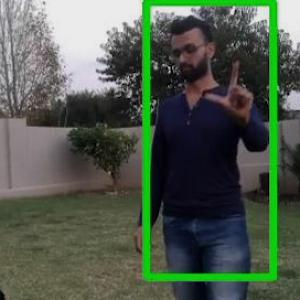land_hand: (203, 51, 260, 121)
